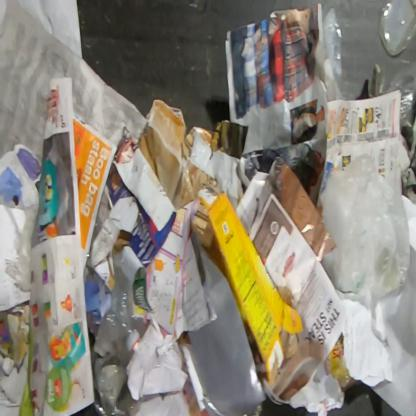cardboard: (208, 187, 305, 386), (276, 160, 316, 228)
soft_plastic: (177, 232, 269, 415), (322, 152, 411, 307), (84, 246, 148, 415), (323, 332, 363, 394), (298, 206, 337, 262), (378, 0, 415, 57), (382, 61, 415, 124), (322, 6, 342, 90)
